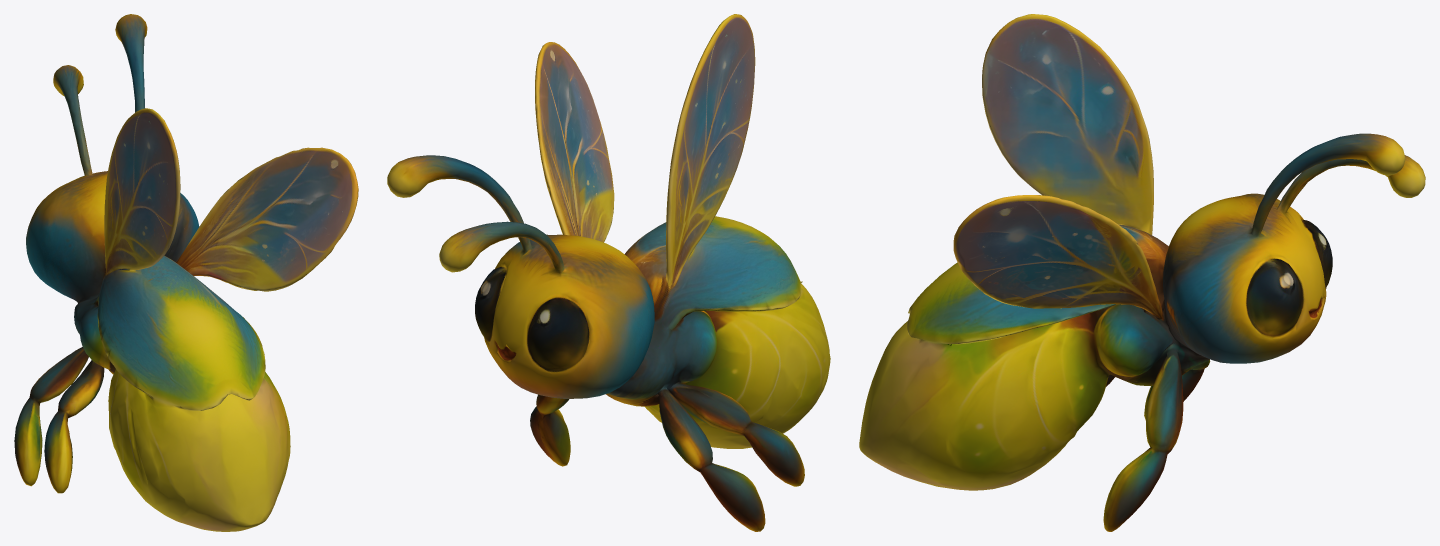
Rendered from firefly_3d.r1.glb.
3 renders of one model, left to right at view 1: azimuth 30°, elevation 25°; view 2: azimuth 150°, elevation 25°; view 3: azimuth 270°, elevation 25°, orthographic. The views are drawn at different scales.
Parts seen in each view (by area): view 1: tripo_node_2521e93d-2a6f-4c01-b395-e48fb7e88c94; view 2: tripo_node_2521e93d-2a6f-4c01-b395-e48fb7e88c94; view 3: tripo_node_2521e93d-2a6f-4c01-b395-e48fb7e88c94.
Boxes of the visible parts, box(x1,y1,x2,y2) form: tripo_node_2521e93d-2a6f-4c01-b395-e48fb7e88c94: box(14, 14, 358, 531); tripo_node_2521e93d-2a6f-4c01-b395-e48fb7e88c94: box(387, 14, 830, 531); tripo_node_2521e93d-2a6f-4c01-b395-e48fb7e88c94: box(859, 14, 1425, 531).
Size of the model in its own units: 0.6125 by 0.8864 by 1.
Materials: 1 (1 with a texture image).
